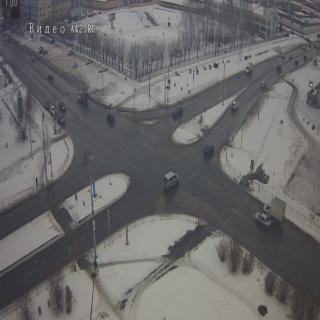large-vehicle: (263, 194, 287, 227), (243, 58, 254, 77), (75, 90, 91, 103)
small-vehicle: (168, 105, 186, 122), (256, 210, 271, 230), (164, 173, 181, 190), (229, 97, 240, 114), (54, 98, 66, 113), (257, 77, 267, 93), (203, 145, 215, 158), (42, 100, 51, 115), (46, 75, 56, 87), (275, 61, 283, 75), (56, 114, 64, 127), (106, 113, 116, 123), (278, 53, 286, 62), (50, 108, 55, 120), (287, 53, 293, 63), (30, 56, 38, 62), (292, 61, 298, 68), (302, 54, 308, 60), (302, 44, 308, 50)
